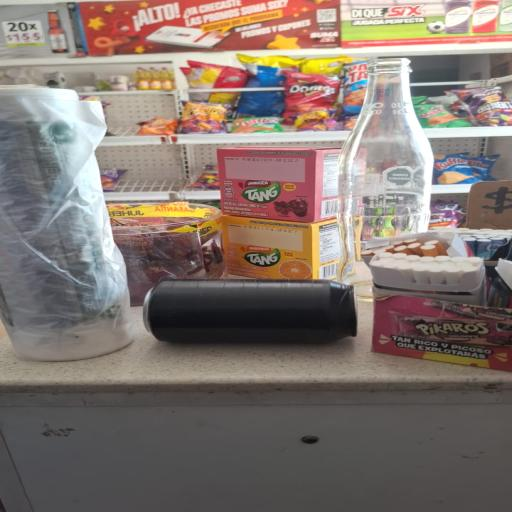LATA: (136, 267, 368, 350)
